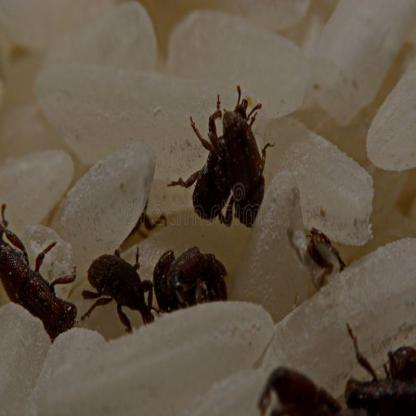rice-bug: (180, 93, 276, 222), (0, 205, 76, 347), (86, 238, 152, 336), (157, 240, 237, 318), (347, 341, 415, 416), (255, 361, 343, 416), (304, 228, 350, 278)
